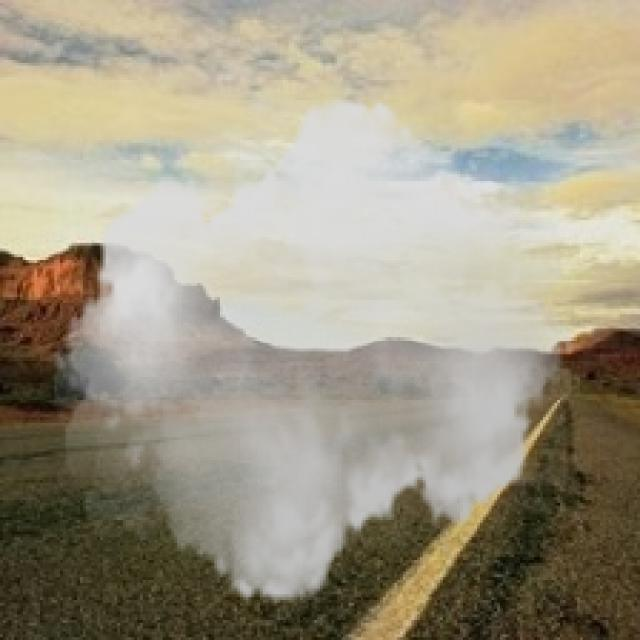Smoke: (54, 77, 574, 623)
